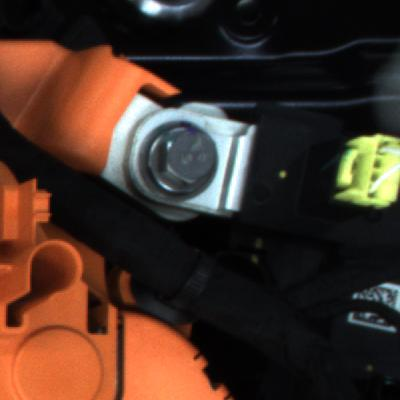nut_b: (136, 115, 228, 209)
